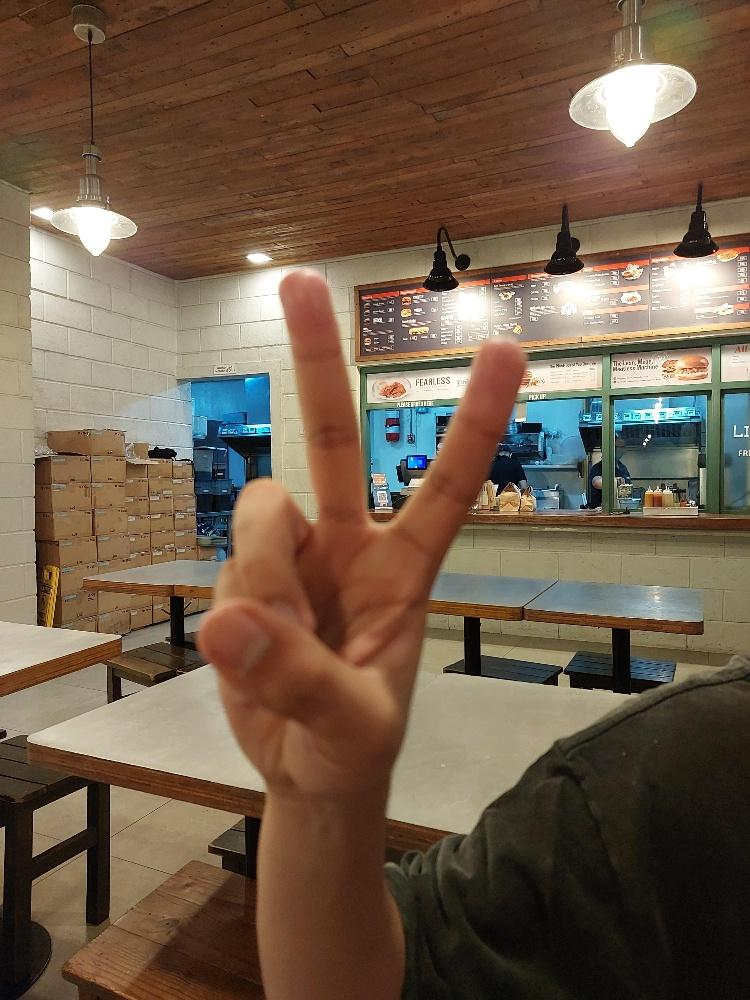v: (193, 268, 532, 794)
